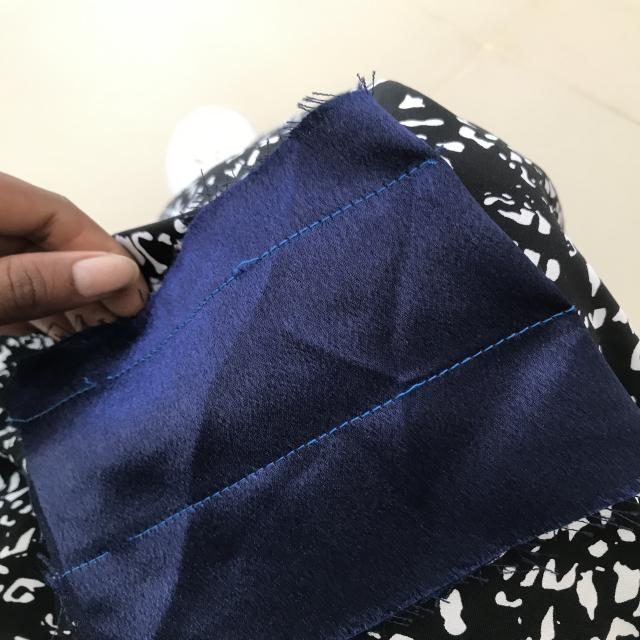broken: (69, 369, 148, 402), (87, 534, 154, 566)
skip: (358, 376, 459, 409), (218, 246, 273, 282)
